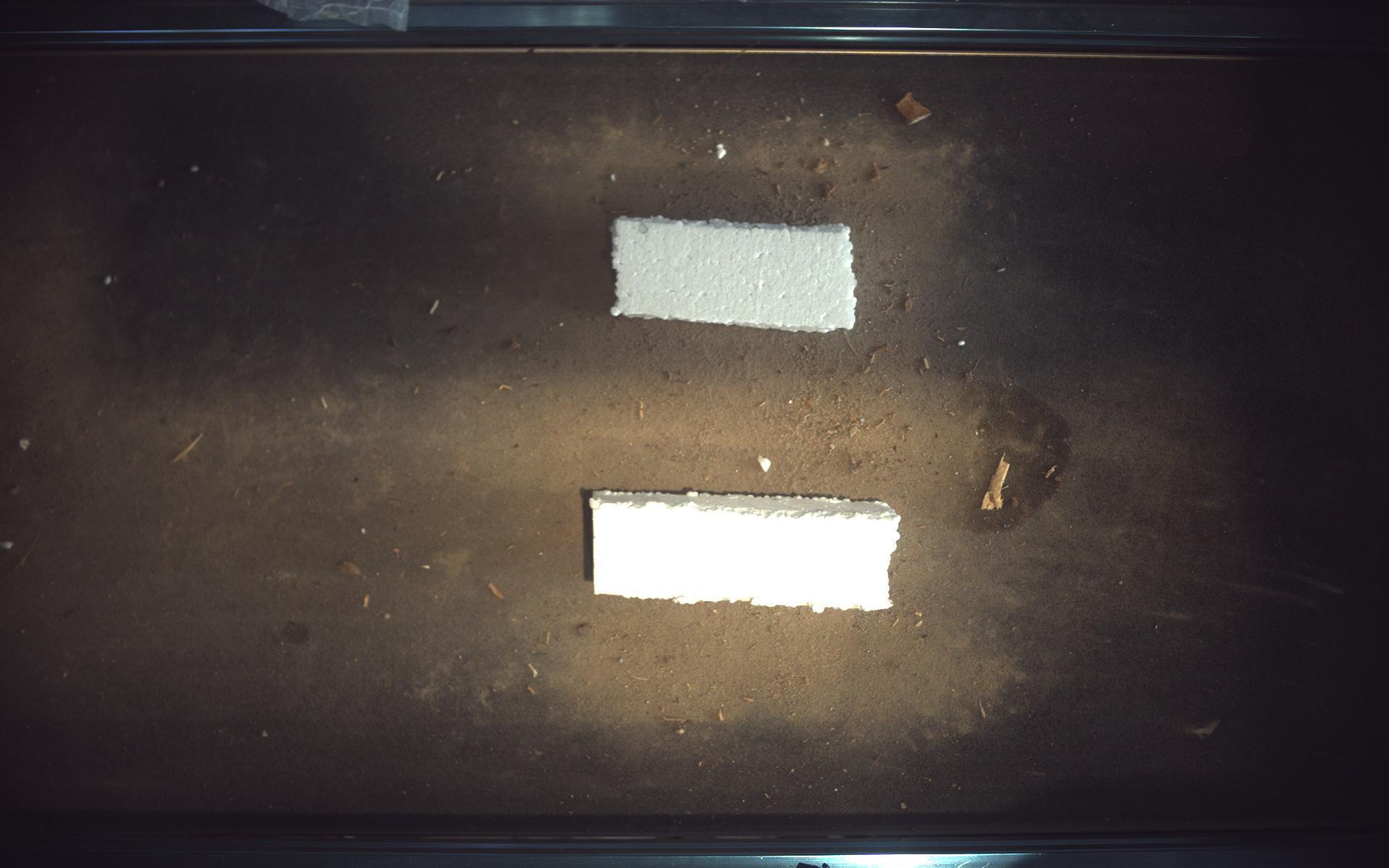foam: (590, 490, 902, 613), (612, 216, 858, 332)
